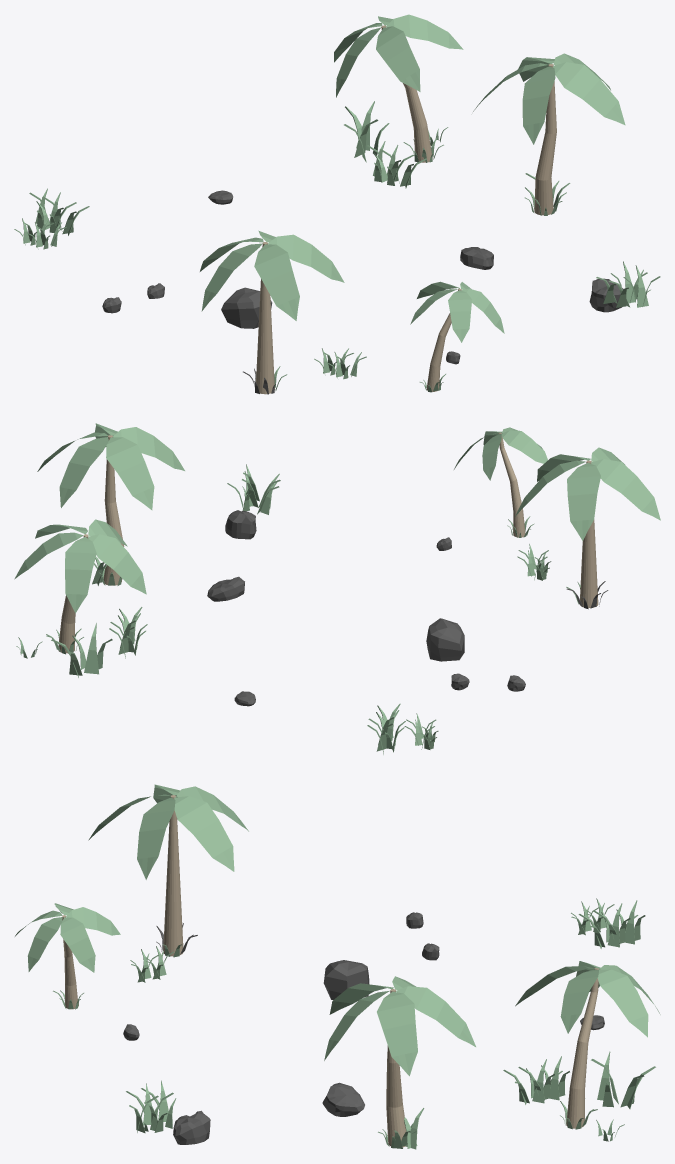
Rendered from SandFoliage_02.FBX.
3 views of the same model, one above another, from view 1: azimuth 30°, elevation 25°; view 2: azimuth 150°, elevation 25°; view 3: azimuth 270°, elevation 25° (orthographic). The views are drawn at different scales.
Visible parts, largest first — view 1: SandFoliage_02; view 2: SandFoliage_02; view 3: SandFoliage_02.
Part boxes in pixels (bbox=[...]): SandFoliage_02: bbox=[14, 14, 660, 394]; SandFoliage_02: bbox=[14, 423, 660, 754]; SandFoliage_02: bbox=[15, 784, 660, 1149].
Bounding box in the file's own units: 380 × 114 × 382.
